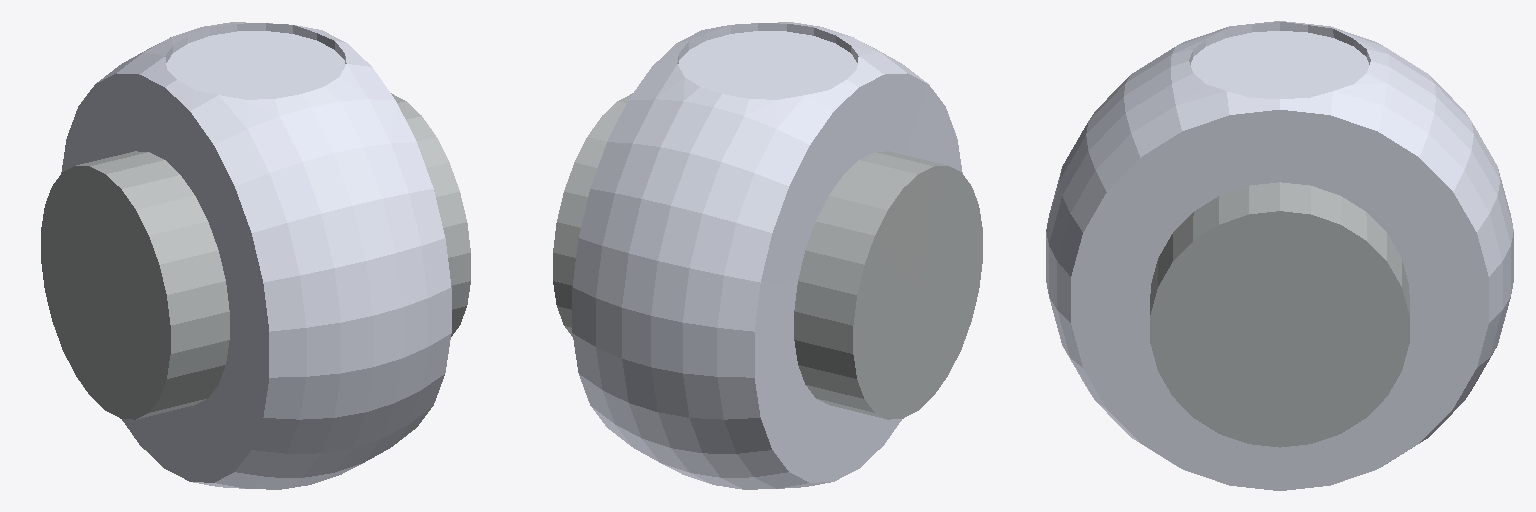
3 views of the same model, side by side, from view 1: azimuth 30°, elevation 25°; view 2: azimuth 150°, elevation 25°; view 3: azimuth 270°, elevation 25° (orthographic).
Parts seen in each view (by area): view 1: wrist; view 2: wrist; view 3: wrist.
Part boxes in pixels (bbox=[...]): wrist: bbox=[41, 22, 470, 489]; wrist: bbox=[553, 22, 982, 489]; wrist: bbox=[1046, 21, 1513, 490].
Bounding box in the file's own units: 0.0727 × 0.0906 × 0.0979.
1 materials, 1 textured.